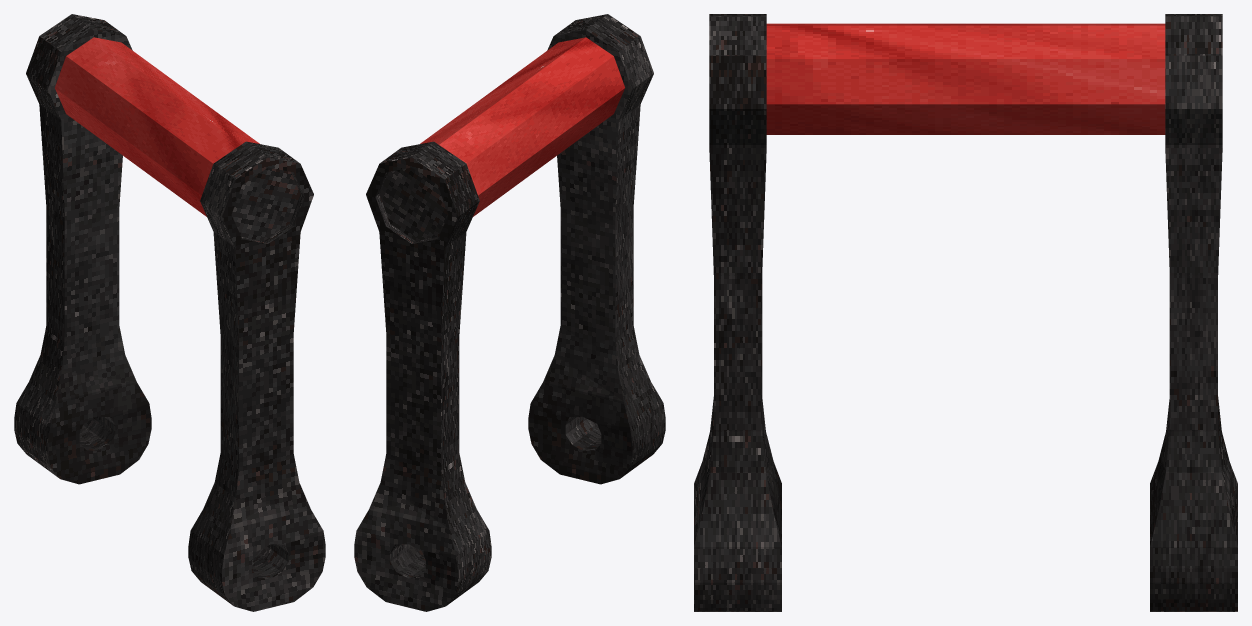
The model's file is Lever_Handle.glb.
The picture shows the model from 3 angles, left to right: view 1: azimuth 30°, elevation 25°; view 2: azimuth 150°, elevation 25°; view 3: azimuth 270°, elevation 25°; orthographic projection. The views are drawn at different scales.
Parts seen in each view (by area): view 1: Post 1, Post 1.001, Grip; view 2: Post 1.001, Post 1, Grip; view 3: Grip, Post 1, Post 1.001.
Part boxes in pixels (<box>): Post 1: <box>188,141,325,611</box>; Post 1.001: <box>14,14,151,484</box>; Grip: <box>55,37,259,216</box>; Post 1.001: <box>354,141,491,611</box>; Post 1: <box>528,14,665,484</box>; Grip: <box>420,37,624,216</box>; Grip: <box>766,23,1165,134</box>; Post 1: <box>694,14,781,611</box>; Post 1.001: <box>1150,14,1237,611</box>.
Size of the model in its own units: 1.07 by 4.37 by 3.7.
3 materials, 3 textured.
